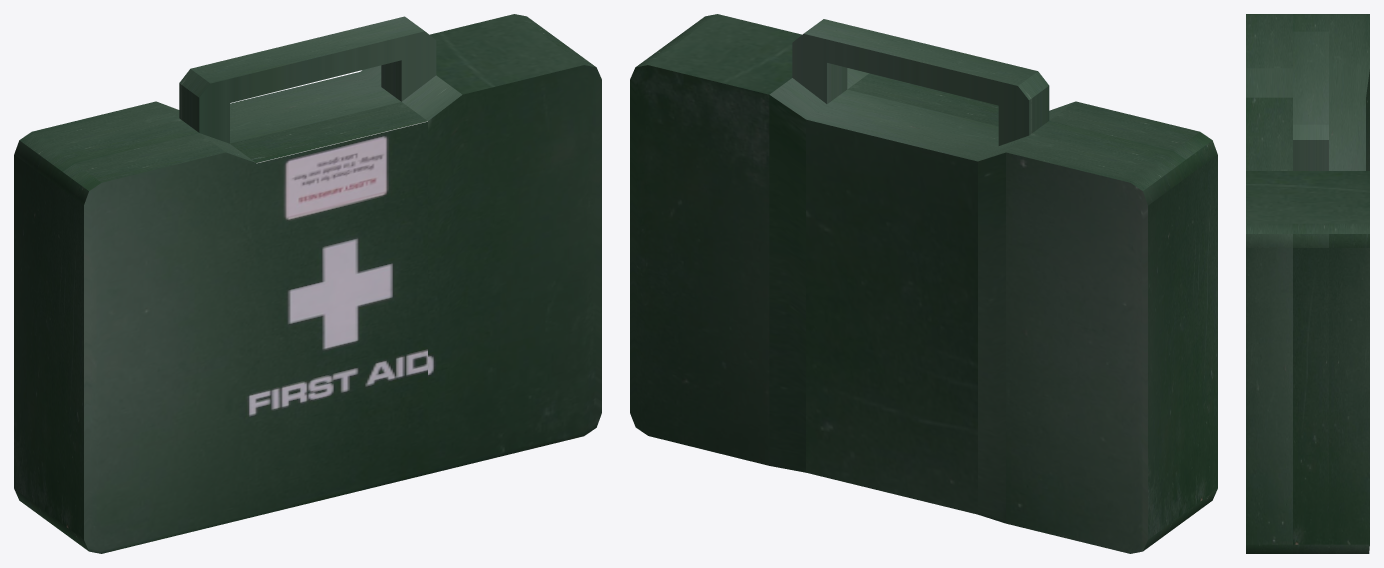
Rendered from first_aid_box.glb.
3 views of the same model, side by side, from view 1: azimuth 30°, elevation 25°; view 2: azimuth 150°, elevation 25°; view 3: azimuth 270°, elevation 25° (orthographic). The views are drawn at different scales.
Parts seen in each view (by area): view 1: pCube1; view 2: pCube1; view 3: pCube1.
Part boxes in pixels (x1=…): pCube1: x1=14, y1=14, x2=601, y2=553; pCube1: x1=630, y1=14, x2=1217, y2=553; pCube1: x1=1246, y1=14, x2=1369, y2=553.
Size of the model in its own units: 25.85 by 19.93 by 6.03.
1 material, 1 textured.
